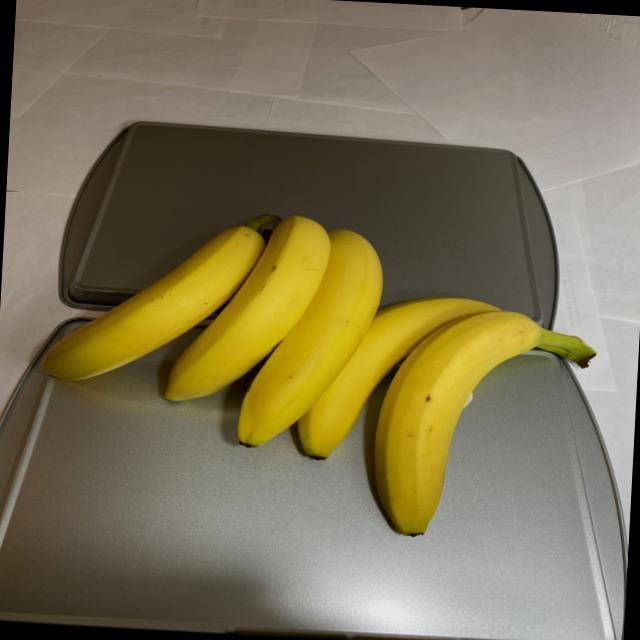banana: (31, 199, 598, 546)
